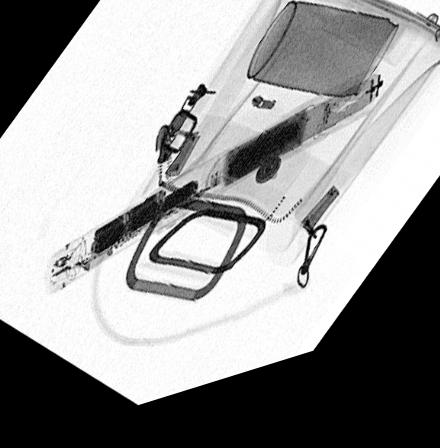Baton: (42, 84, 388, 301)
